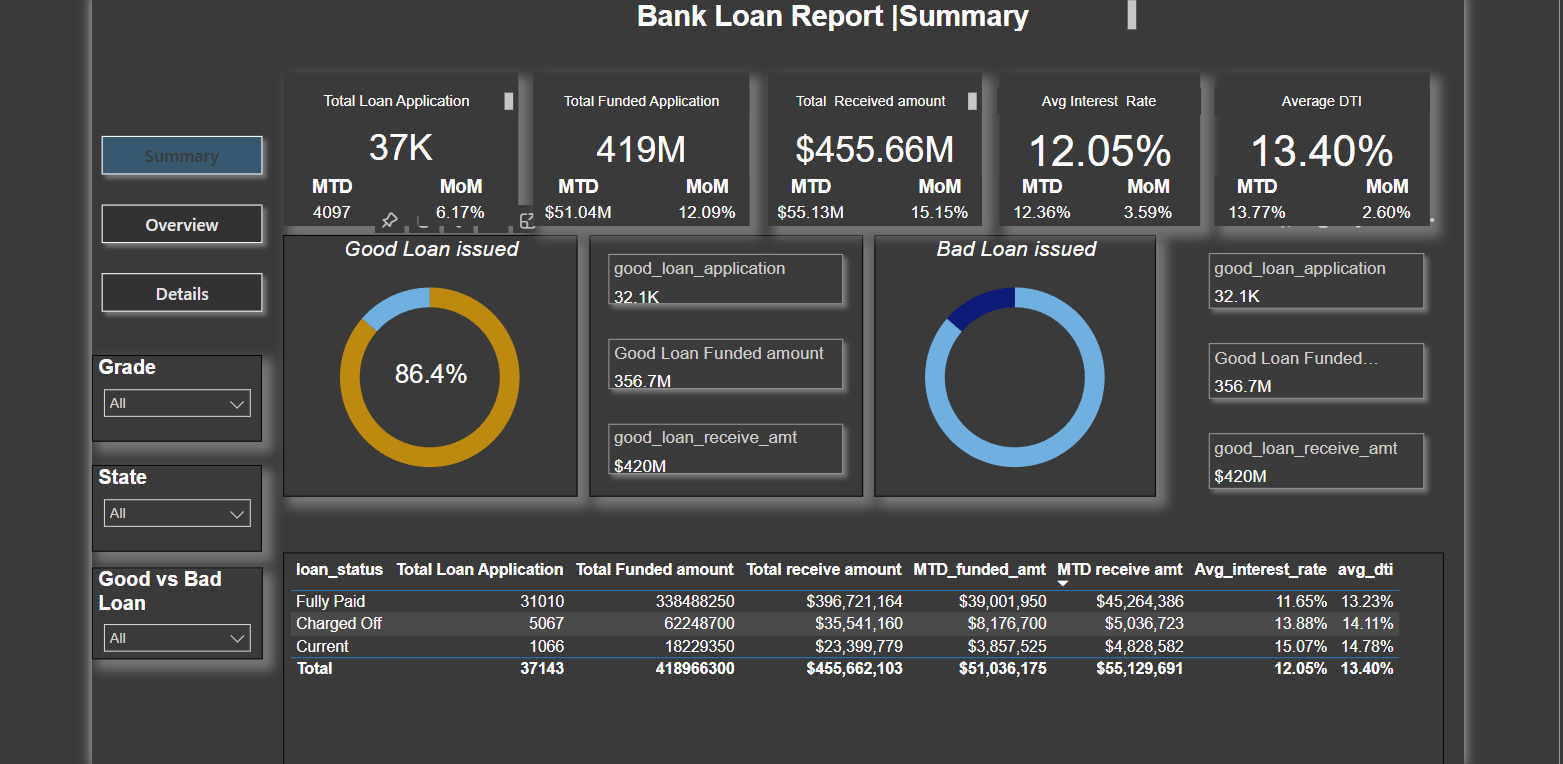

The page's visual inventory and layout, read from the dashboard file:
{"tool":"powerbi","page":{"name":"Summary","canvas":[1280,720],"ordinal":0},"visuals":[{"type":"card","fields":{"Values":["table_measures.Total Loan Amount"]},"box":[178.9,72.1,219.3,142.8],"z":0},{"type":"donutChart","title":"Good Loan issued","fields":{"Category":["financial_loan.Good vs bad loan"],"Y":["Table Measures.Total Loan Application"]},"box":[178.9,223.6,274.1,243.8],"z":1000},{"type":"card","fields":{"Values":["Table Measures.good loan per"]},"box":[264.1,333.8,103.9,41.6],"z":2000},{"type":"card","fields":{"Values":["Table Measures.bad_loan_per"]},"box":[796.4,333.3,101,43.3],"z":3000},{"type":"cardVisual","fields":{"Data":["Table Measures.good_loan_application","Table Measures.Good Loan Funded amount","Table Measures.good_loan_receive_amt"]},"box":[464.6,223.6,255.4,243.8],"z":4000},{"type":"tableEx","fields":{"Values":["financial_loan.loan_status","Table Measures.Total Loan Application","Table Measures.Total Funded amount","Table Measures.Total receive amount","Table Measures.MTD_funded_amt","Table Measures.MTD receive amt","Table Measures.Avg_interest_rate","Table Measures.avg_dti"]},"box":[178.9,519.4,1082.1,200.5],"z":5000},{"type":"slicer","title":"Good vs Bad Loan","fields":{"Values":["financial_loan.Good vs bad loan"]},"box":[0,533.9,158.9,85.9],"z":6000},{"type":"donutChart","title":"Bad Loan issued","fields":{"Category":["financial_loan.Good vs bad loan"],"Y":["Table Measures.Total Loan Application"]},"box":[730,223.6,262.6,243.8],"z":7000},{"type":"cardVisual","fields":{"Data":["Table Measures.good_loan_application","Table Measures.Good Loan Funded amount","Table Measures.good_loan_receive_amt"]},"box":[1024.8,224,235.7,255.2],"z":8000},{"type":"card","fields":{"Values":["Table Measures.Total Funded amount"]},"box":[411.2,72.1,202,142.8],"z":9000},{"type":"card","fields":{"Values":["Table Measures.Total receive amount"]},"box":[630.5,72.1,199.1,142.8],"z":10000},{"type":"card","fields":{"Values":["Table Measures.avg_dti"]},"box":[1047.4,72.1,200.5,142.8],"z":11000},{"type":"card","fields":{"Values":["Table Measures.Avg_interest_rate"]},"box":[846.9,72.1,187.6,142.8],"z":12000},{"type":"slicer","title":"State","fields":{"Values":["financial_loan.address_state"]},"box":[0,438.6,158.7,80.8],"z":13000},{"type":"slicer","title":"Grade","fields":{"Values":["financial_loan.grade"]},"box":[0,336.2,158.7,80.8],"z":14000},{"type":"textbox","box":[411.4,0,567,38.6],"z":15000},{"type":"pageNavigator","box":[0,122.6,168.8,183.2],"z":16000},{"type":"card","title":"MTD","fields":{"Values":["Table Measures.MTD_loan_appl"]},"box":[184.7,168.8,79.4,46.2],"z":17000},{"type":"card","title":"MoM","fields":{"Values":["Table Measures.MOM_loan_appl"]},"box":[304.4,168.8,79.4,46.2],"z":18000},{"type":"card","title":"MTD","fields":{"Values":["Table Measures.MTD_funded_amt"]},"box":[414.1,168.8,79.4,46.2],"z":19000},{"type":"card","title":"MoM","fields":{"Values":["Table Measures.MoM_funded_amt"]},"box":[533.8,168.8,79.4,46.2],"z":20000},{"type":"card","title":"MTD","fields":{"Values":["Table Measures.MTD receive amt"]},"box":[630.5,168.8,79.4,46.2],"z":21000},{"type":"card","title":"MoM","fields":{"Values":["Table Measures.MoM_received_amt"]},"box":[750.2,168.8,79.4,46.2],"z":22000},{"type":"card","title":"MTD","fields":{"Values":["Table Measures.MTD_int_rate"]},"box":[846.9,168.8,79.4,46.2],"z":23000},{"type":"card","title":"MoM","fields":{"Values":["Table Measures.MoM_int_rate"]},"box":[945,168.8,79.4,46.2],"z":24000},{"type":"card","title":"MTD","fields":{"Values":["Table Measures.MTD_avg_dti"]},"box":[1047.4,168.8,79.4,46.2],"z":25000},{"type":"card","title":"MoM","fields":{"Values":["Table Measures.MoM_avg_dti"]},"box":[1168.6,168.8,79.4,46.2],"z":26000},{"type":"textbox","box":[178.9,86.6,219.3,26],"z":27000},{"type":"textbox","box":[411.2,86.6,202,26],"z":28000},{"type":"textbox","box":[630.5,86.6,199.1,26],"z":29000},{"type":"textbox","box":[844,86.6,190.4,26],"z":30000},{"type":"textbox","box":[1047.4,86.6,200.5,26],"z":31000}]}

Visuals, with their boxes on the page's 1280x720 design canvas (x1, y1, x2, y2). These are canvas units, not pixel positions in the 1563x764 screenshot, which may show the page scaled, cropped or inside an application window:
card - table_measures.Total Loan Amount: select_region(179, 72, 398, 215)
"Good Loan issued" donutChart: select_region(179, 224, 453, 467)
card - Table Measures.good loan per: select_region(264, 334, 368, 375)
card - Table Measures.bad_loan_per: select_region(796, 333, 897, 377)
cardVisual - Table Measures.good_loan_application x Table Measures.Good Loan Funded amount: select_region(465, 224, 720, 467)
tableEx - financial_loan.loan_status x Table Measures.Total Loan Application: select_region(179, 519, 1261, 720)
"Good vs Bad Loan" slicer: select_region(0, 534, 159, 620)
"Bad Loan issued" donutChart: select_region(730, 224, 993, 467)
cardVisual - Table Measures.good_loan_application x Table Measures.Good Loan Funded amount: select_region(1025, 224, 1260, 479)
card - Table Measures.Total Funded amount: select_region(411, 72, 613, 215)
card - Table Measures.Total receive amount: select_region(630, 72, 830, 215)
card - Table Measures.avg_dti: select_region(1047, 72, 1248, 215)
card - Table Measures.Avg_interest_rate: select_region(847, 72, 1034, 215)
"State" slicer: select_region(0, 439, 159, 519)
"Grade" slicer: select_region(0, 336, 159, 417)
textbox: select_region(411, 0, 978, 39)
pageNavigator: select_region(0, 123, 169, 306)
"MTD" card: select_region(185, 169, 264, 215)
"MoM" card: select_region(304, 169, 384, 215)
"MTD" card: select_region(414, 169, 494, 215)
"MoM" card: select_region(534, 169, 613, 215)
"MTD" card: select_region(630, 169, 710, 215)
"MoM" card: select_region(750, 169, 830, 215)
"MTD" card: select_region(847, 169, 926, 215)
"MoM" card: select_region(945, 169, 1024, 215)
"MTD" card: select_region(1047, 169, 1127, 215)
"MoM" card: select_region(1169, 169, 1248, 215)
textbox: select_region(179, 87, 398, 113)
textbox: select_region(411, 87, 613, 113)
textbox: select_region(630, 87, 830, 113)
textbox: select_region(844, 87, 1034, 113)
textbox: select_region(1047, 87, 1248, 113)
